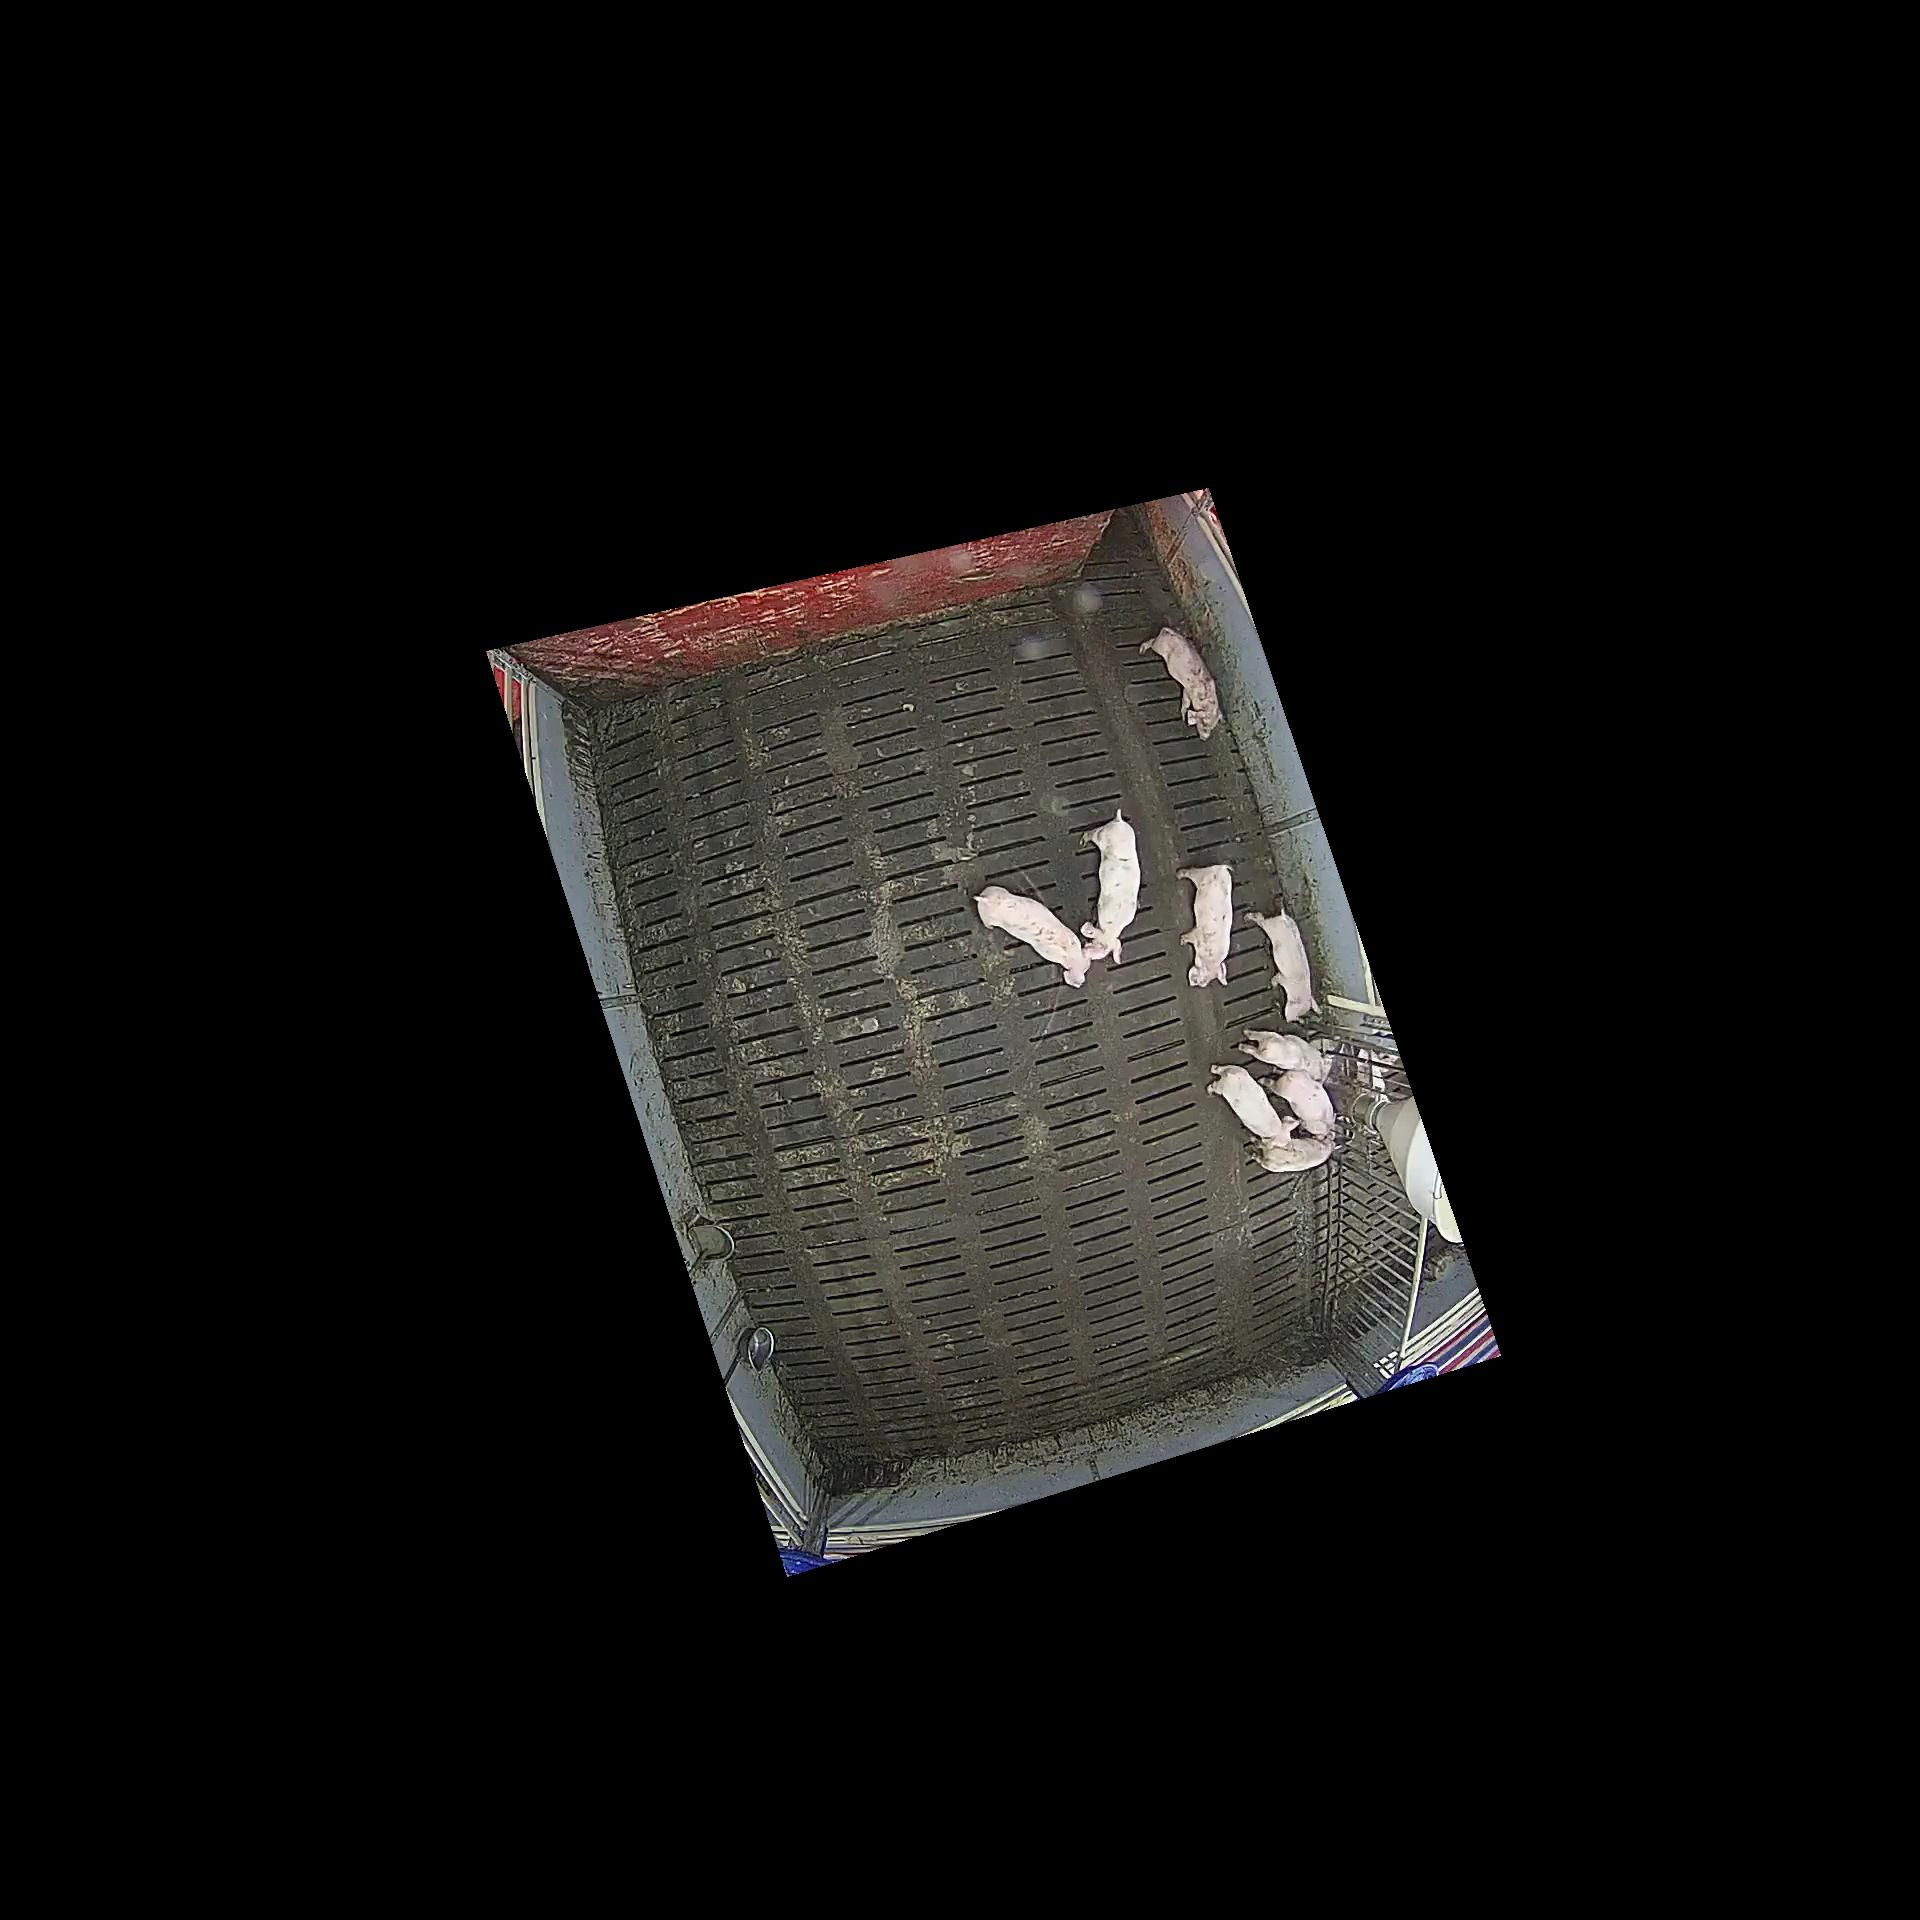pig: (972, 886, 1109, 988), (1080, 805, 1143, 964), (1139, 626, 1225, 738), (1241, 909, 1324, 1023), (1176, 862, 1236, 986), (1206, 1065, 1301, 1141), (1257, 1067, 1336, 1139), (1236, 1027, 1333, 1083), (1245, 1134, 1335, 1175)
